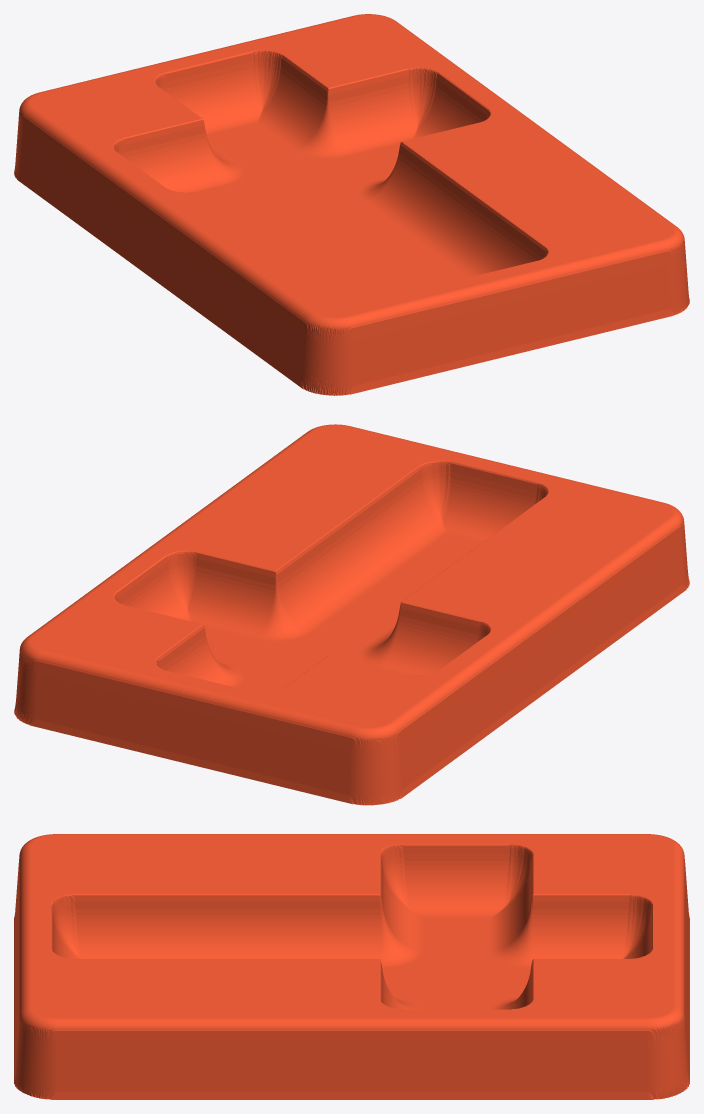
File: mold.glb
The picture shows the model from 3 angles, top to bottom: view 1: azimuth 30°, elevation 25°; view 2: azimuth 150°, elevation 25°; view 3: azimuth 270°, elevation 25°; orthographic projection. The views are drawn at different scales.
Parts seen in each view (by area): view 1: geometry_0; view 2: geometry_0; view 3: geometry_0.
Part boxes in pixels (left/top/right/bottom): geometry_0: left=14, top=14, right=689, bottom=395; geometry_0: left=14, top=424, right=689, bottom=805; geometry_0: left=14, top=834, right=689, bottom=1099.
Size of the model in its own units: 0.0991 by 0.0175 by 0.1435.
